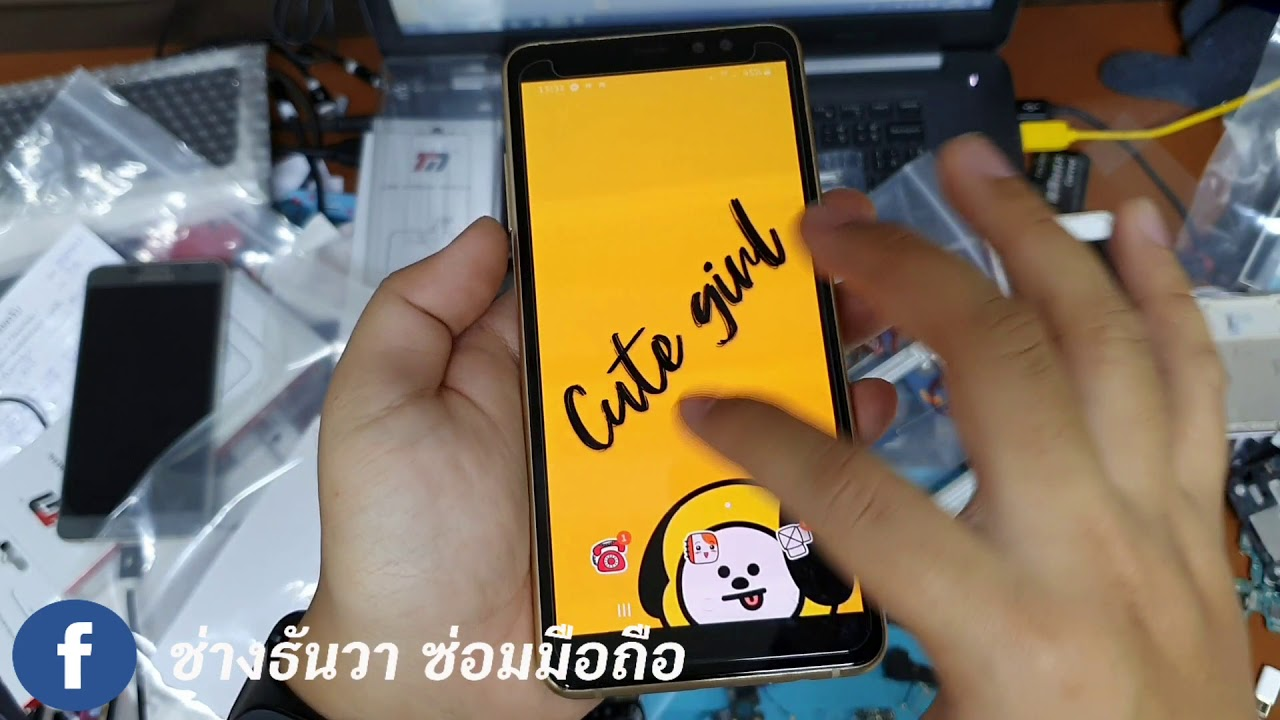Phone: (500, 21, 891, 699)
